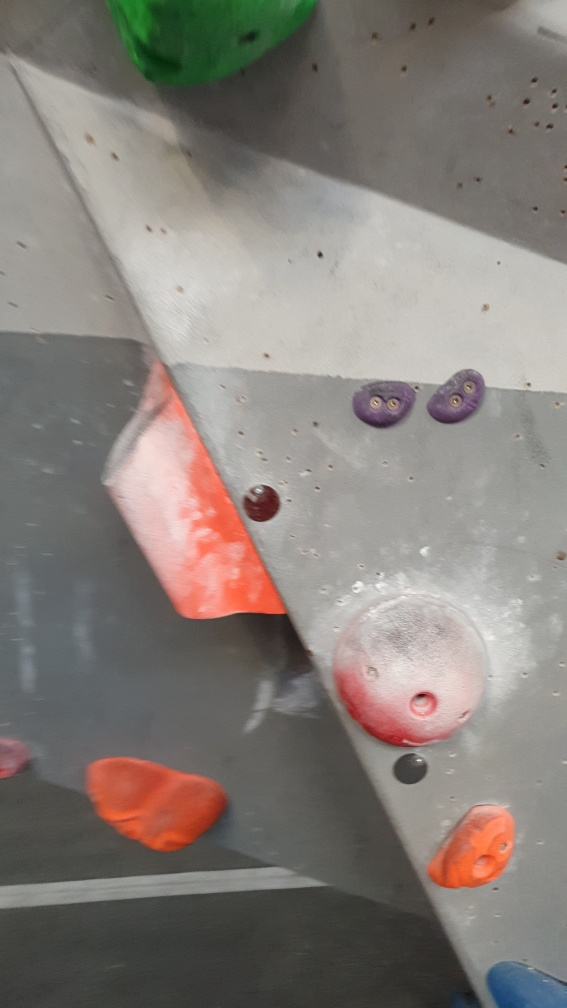Hand Start: (240, 482, 288, 526), (389, 748, 429, 787)
Pinch: (101, 364, 291, 624)
Sloper: (329, 591, 496, 746)
